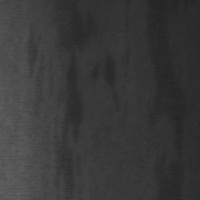inclusion: (11, 2, 56, 188), (106, 4, 152, 181), (155, 20, 176, 103), (76, 52, 101, 110)
